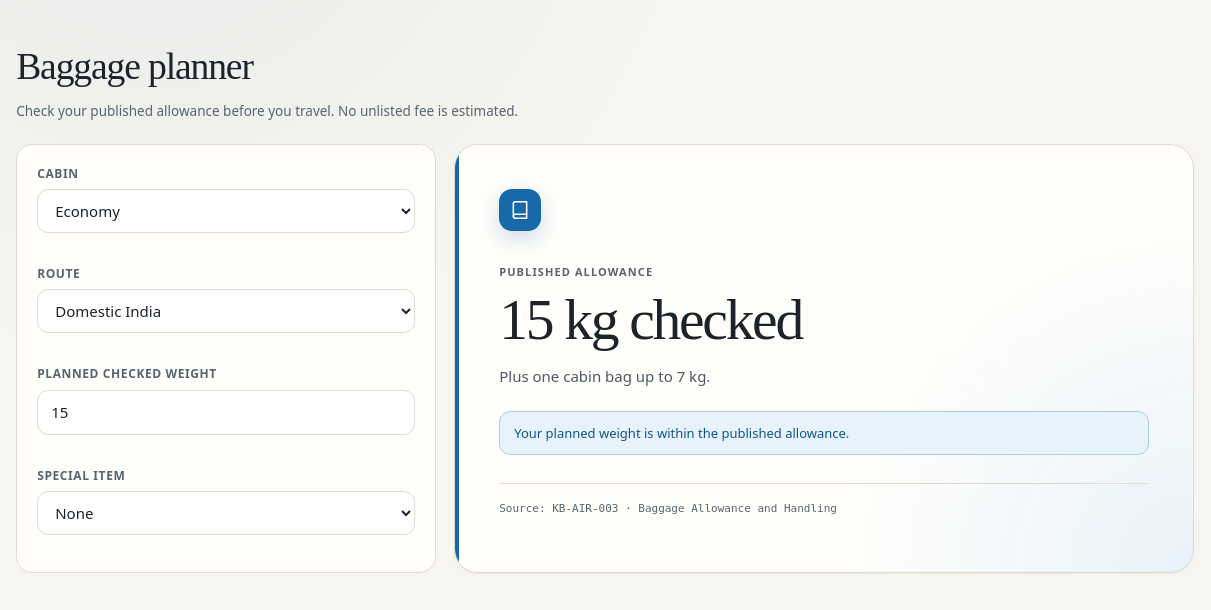
Test case: BaggageCalculator › discloses excess weight without inventing a monetary fee
Replace the text in the number field labelled "Planned checked weight" with "23": (226, 412) [37,390,415,435]
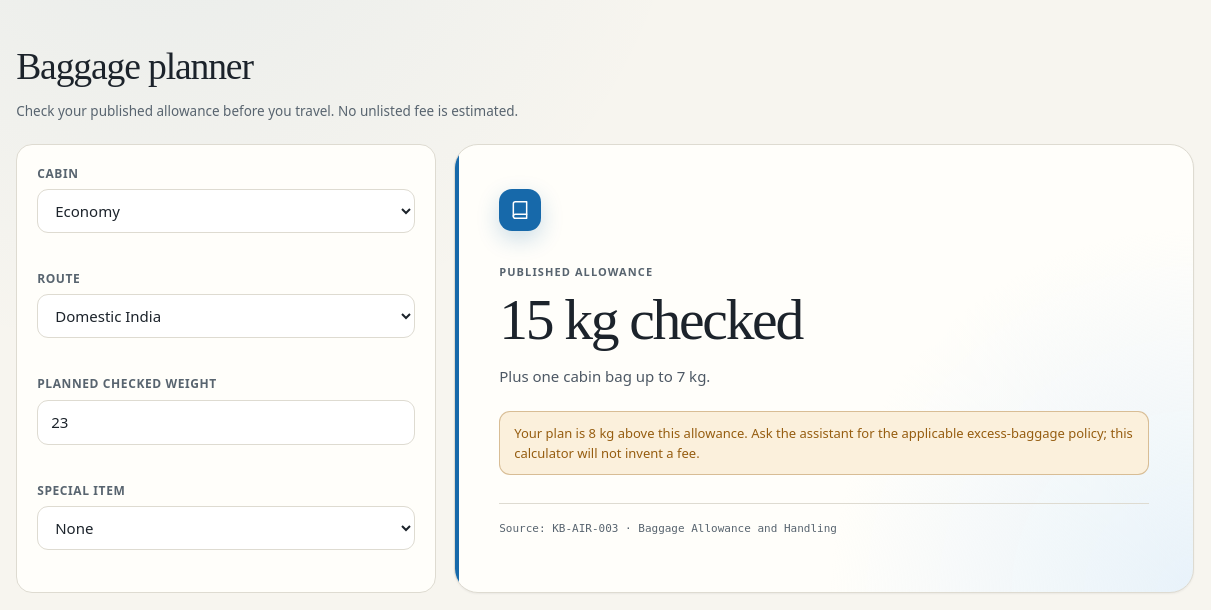
Expected: the text "8 kg above this allowance" is shown, [499,410,1149,475]
Expected: the text "will not invent a fee" is shown, [514,424,1133,462]
